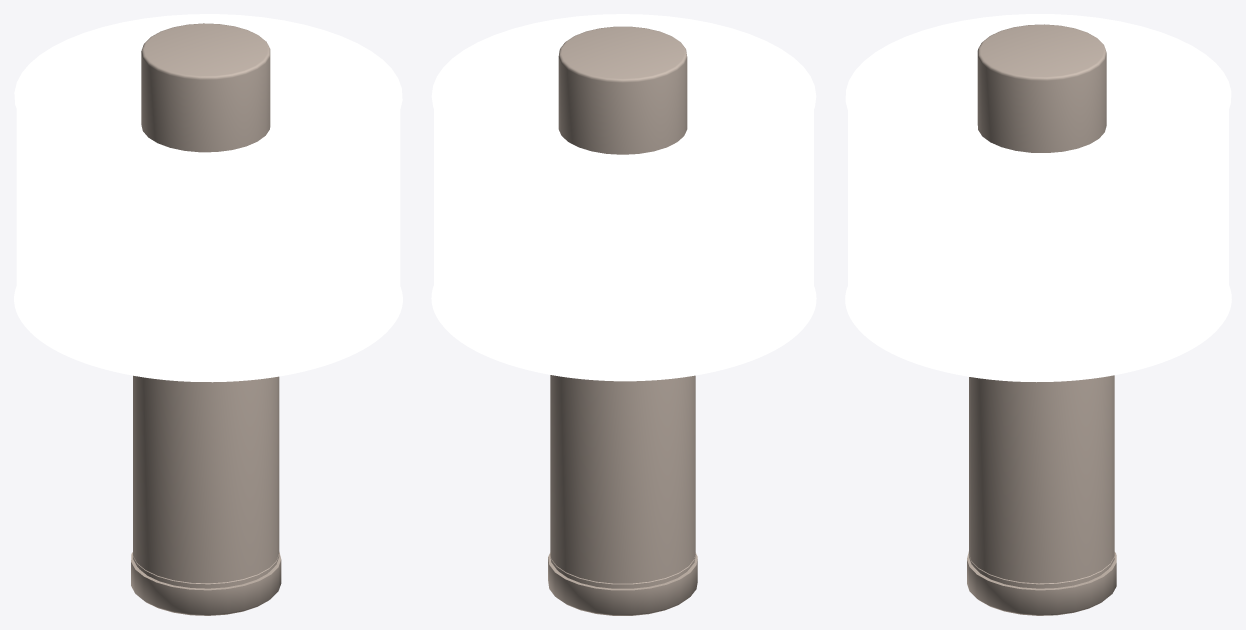
The model's file is CGT_Table_Lamp_16_001.glb.
The picture shows the model from 3 angles, left to right: view 1: azimuth 30°, elevation 25°; view 2: azimuth 150°, elevation 25°; view 3: azimuth 270°, elevation 25°; orthographic projection.
Visible parts, largest first — view 1: CGT_Table_Lamp_16_001; view 2: CGT_Table_Lamp_16_001; view 3: CGT_Table_Lamp_16_001.
Boxes of the visible parts, box(x1,y1,x2,y2) form: CGT_Table_Lamp_16_001: box(14, 14, 402, 615); CGT_Table_Lamp_16_001: box(431, 14, 816, 615); CGT_Table_Lamp_16_001: box(845, 14, 1231, 615).
Size of the model in its own units: 0.3897 by 0.5932 by 0.3889.
